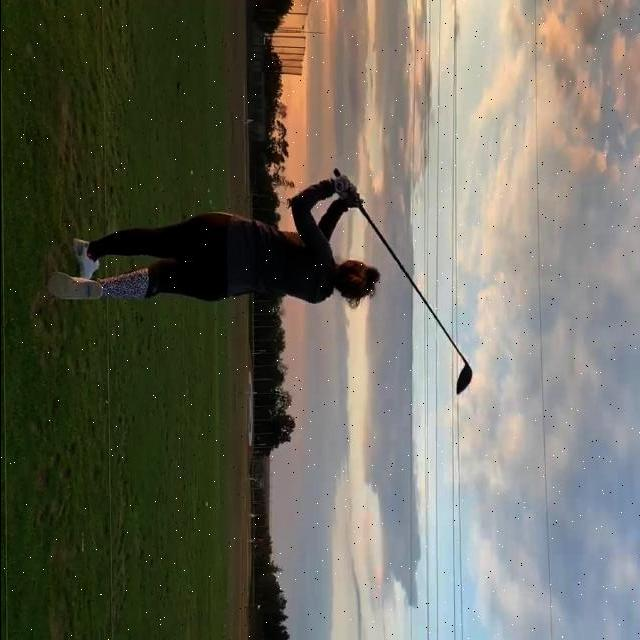golf club-handle: (333, 167, 470, 396)
golf club-head: (455, 364, 470, 397)
